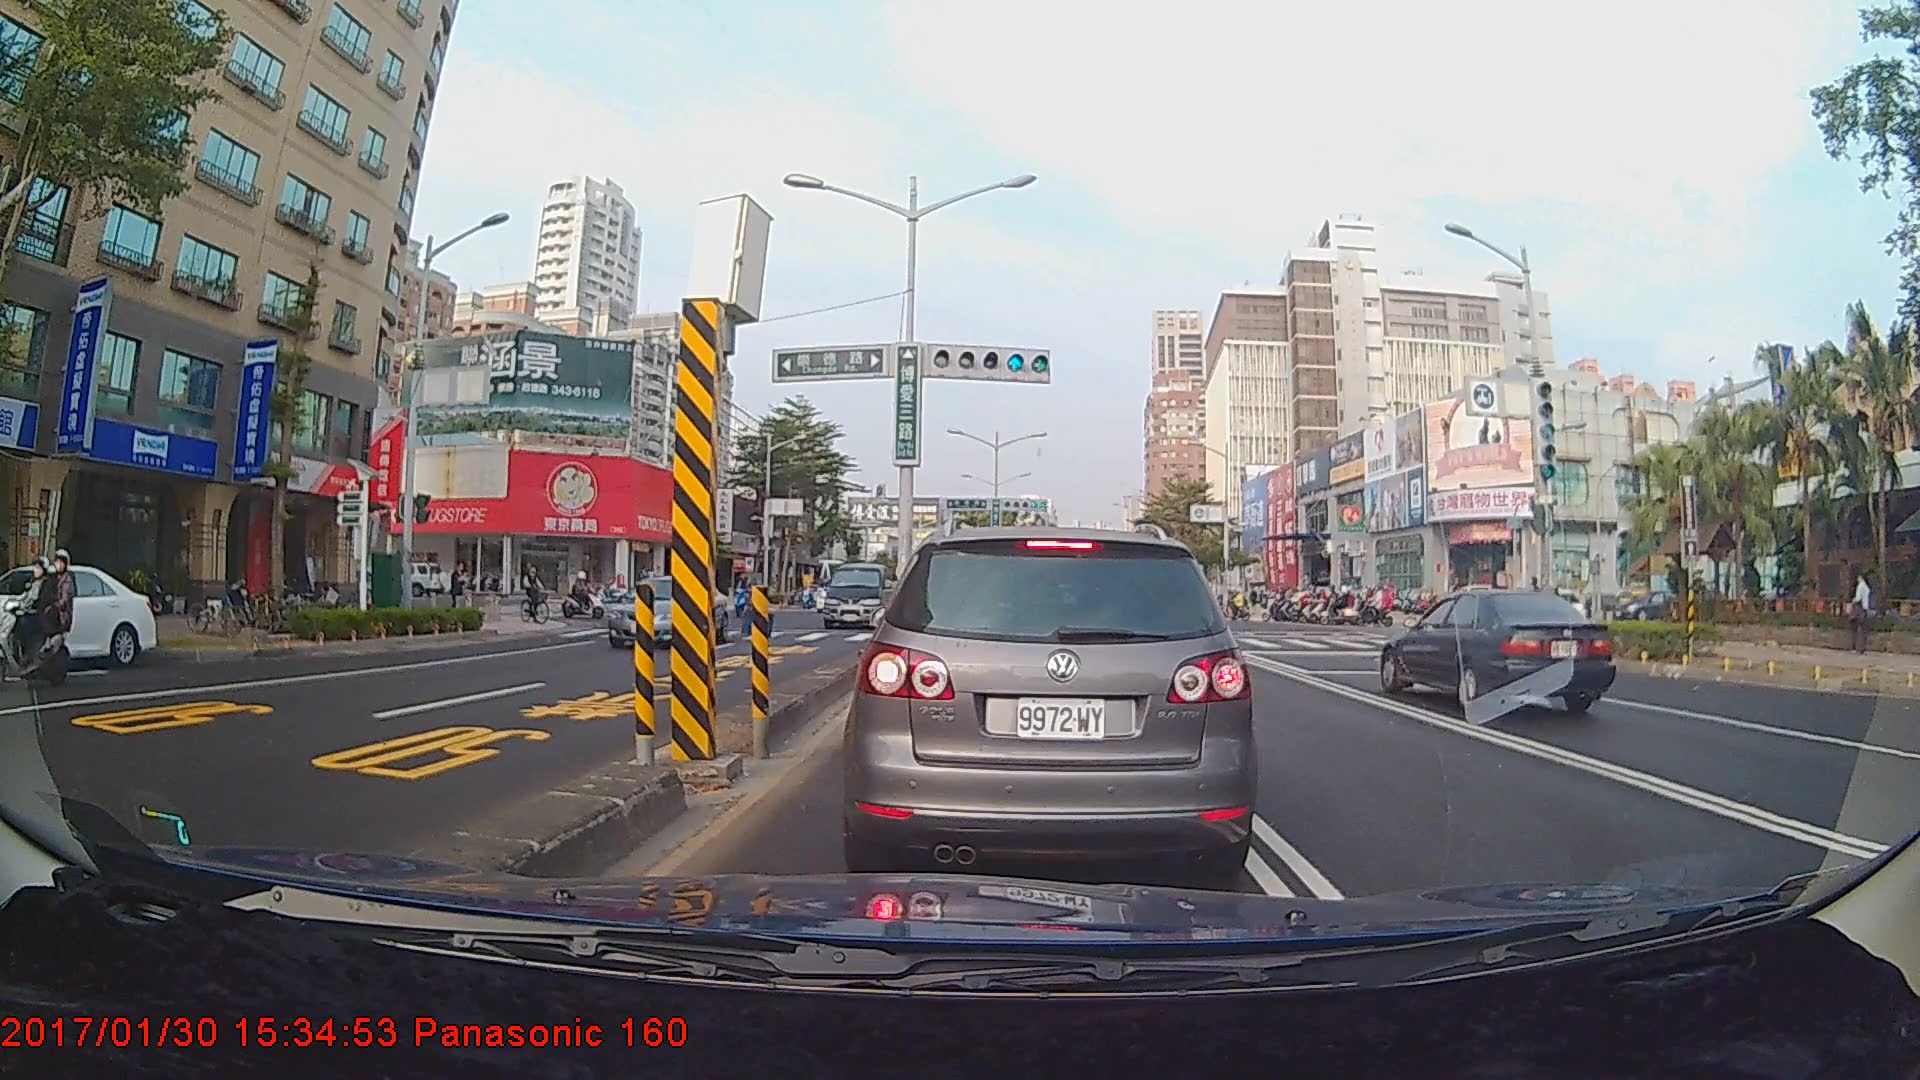pedestrian: (1852, 574, 1873, 654), (445, 558, 468, 621)
rider: (562, 568, 613, 625), (518, 559, 553, 629)
vehicle: (853, 522, 1252, 884), (1379, 585, 1615, 715), (0, 561, 156, 671), (604, 574, 727, 650), (820, 561, 895, 630)
